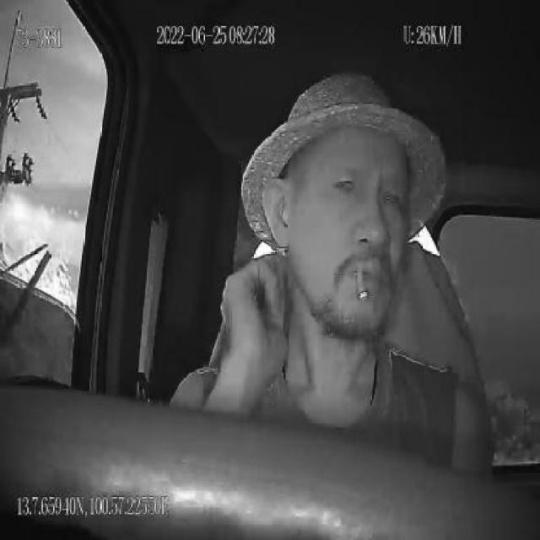smoking: (355, 265, 369, 301)
